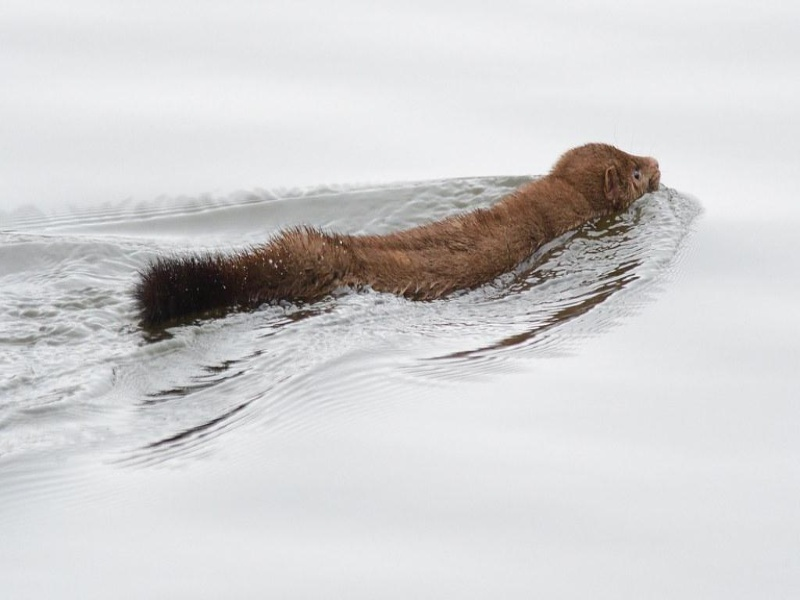minkish: (134, 140, 664, 349)
